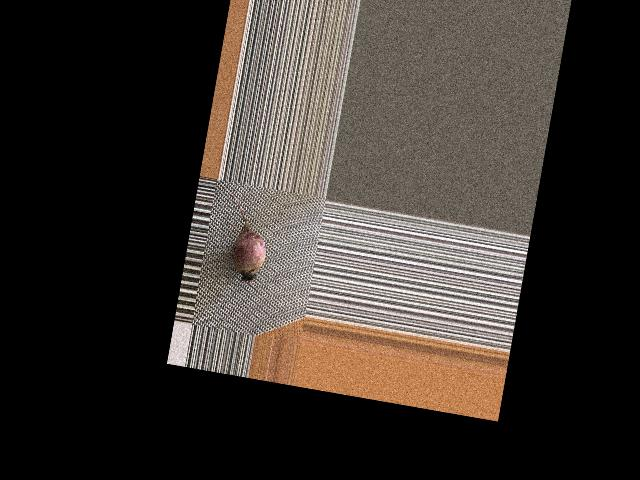beet: (213, 192, 274, 286)
